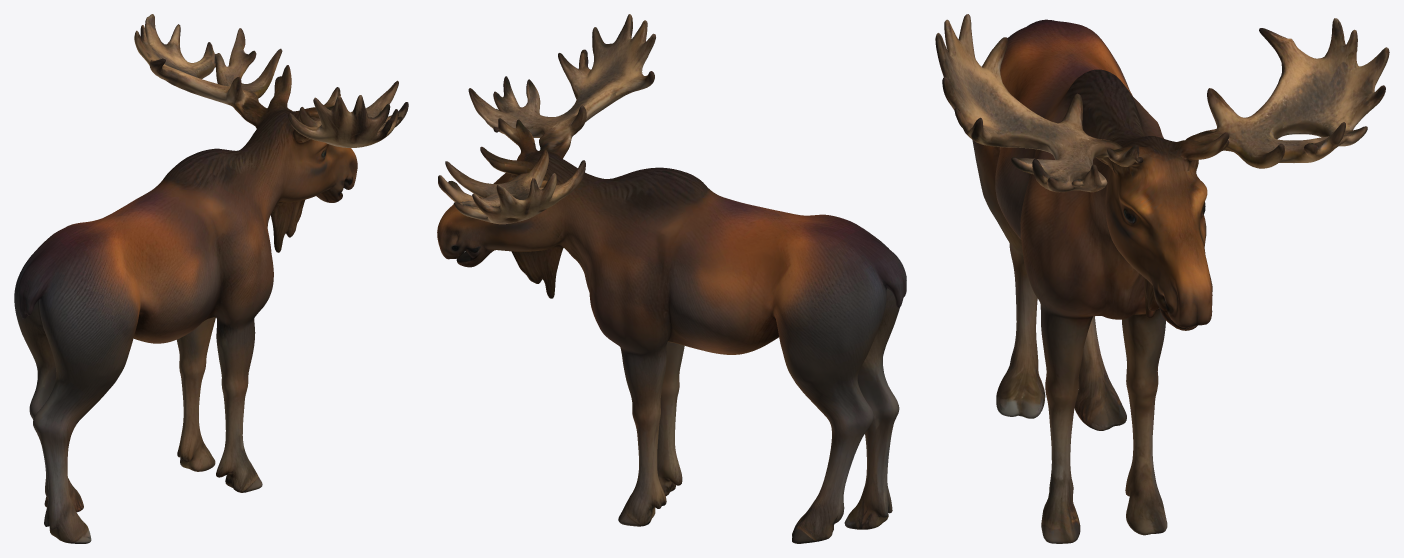
Rendered from mose.glb.
The picture shows the model from 3 angles, left to right: view 1: azimuth 30°, elevation 25°; view 2: azimuth 150°, elevation 25°; view 3: azimuth 270°, elevation 25°; orthographic projection. The views are drawn at different scales.
Visible parts, largest first — view 1: tripo_node_e67ab6f4-48ce-44c2-8d1e-7146bf27ba7c; view 2: tripo_node_e67ab6f4-48ce-44c2-8d1e-7146bf27ba7c; view 3: tripo_node_e67ab6f4-48ce-44c2-8d1e-7146bf27ba7c.
Part boxes in pixels (x1,y1,x2,y2): tripo_node_e67ab6f4-48ce-44c2-8d1e-7146bf27ba7c: [14, 14, 408, 543]; tripo_node_e67ab6f4-48ce-44c2-8d1e-7146bf27ba7c: [437, 14, 906, 543]; tripo_node_e67ab6f4-48ce-44c2-8d1e-7146bf27ba7c: [935, 14, 1389, 543].
Size of the model in its own units: 0.9342 by 0.9223 by 0.689.
Materials: 1 (1 with a texture image).
